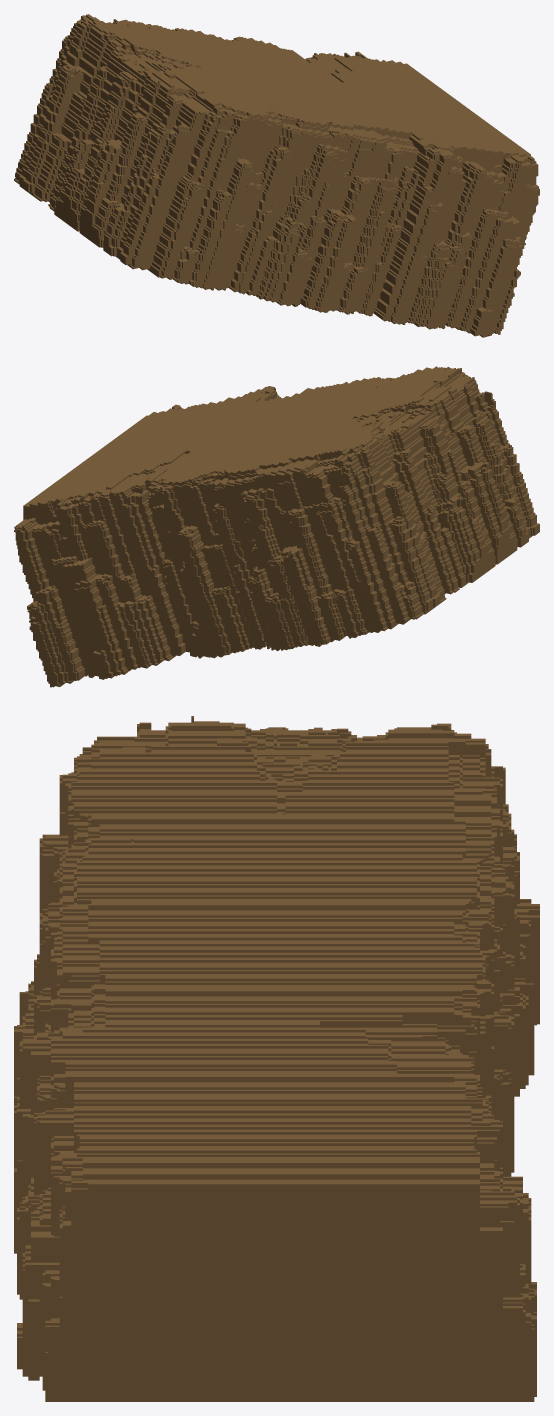
File: forest1.4-127.obj
The picture shows the model from 3 angles, top to bottom: view 1: azimuth 30°, elevation 25°; view 2: azimuth 150°, elevation 25°; view 3: azimuth 270°, elevation 25°; orthographic projection. The views are drawn at different scales.
Bounding box in the file's own units: 25.6 × 17.7 × 18.4.
1 material, 1 textured.
